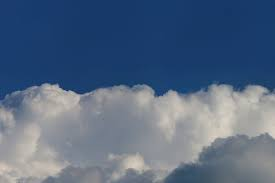sky: (2, 1, 273, 183)
